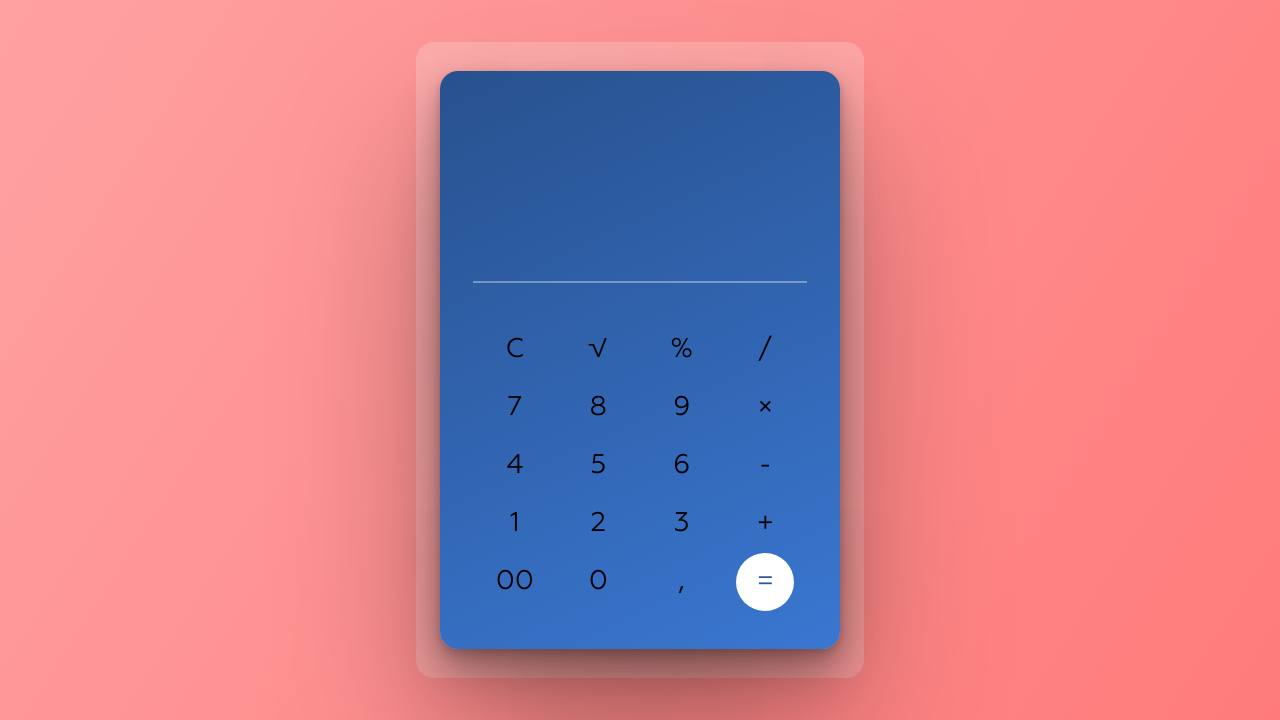
Scenario: Calculator › numpad interactions › should input correct values on numpad click
The image size is (1280, 720).
Click the button "7" at point(515, 408), box [486,379,544,437]
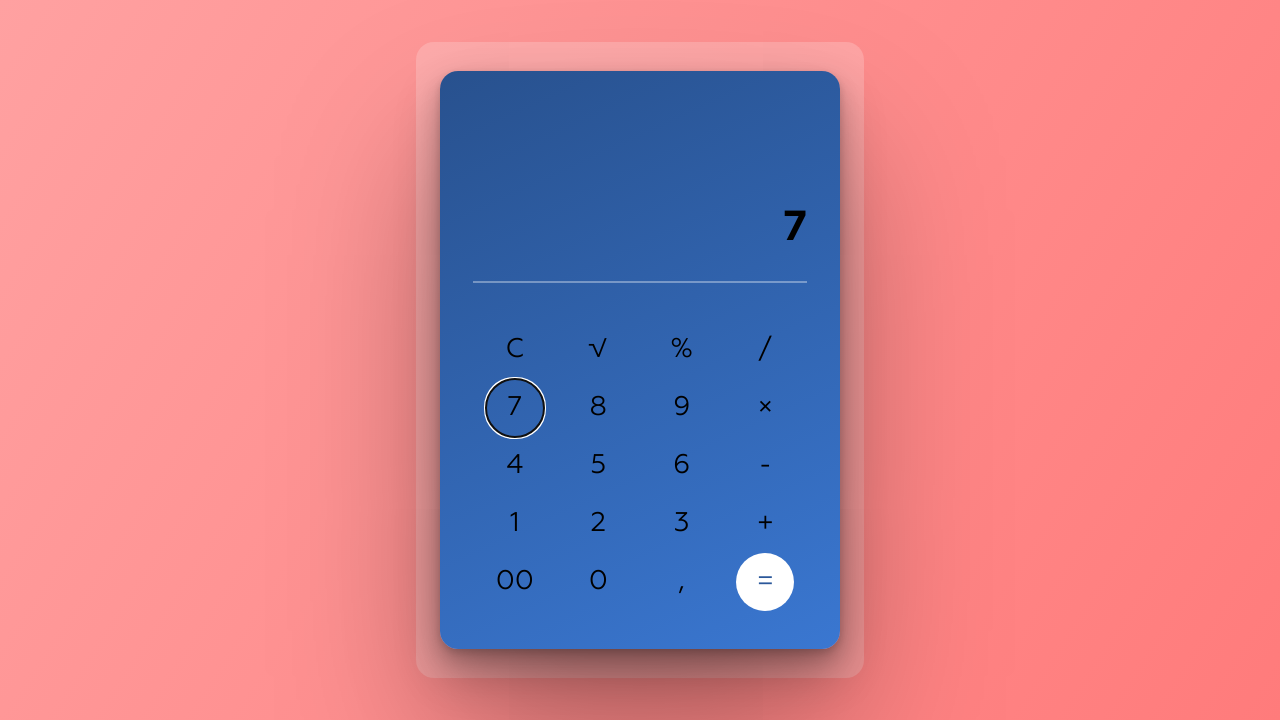
Check: the field with test id "Calculator__input" holds "7", box [473,192,807,264]
